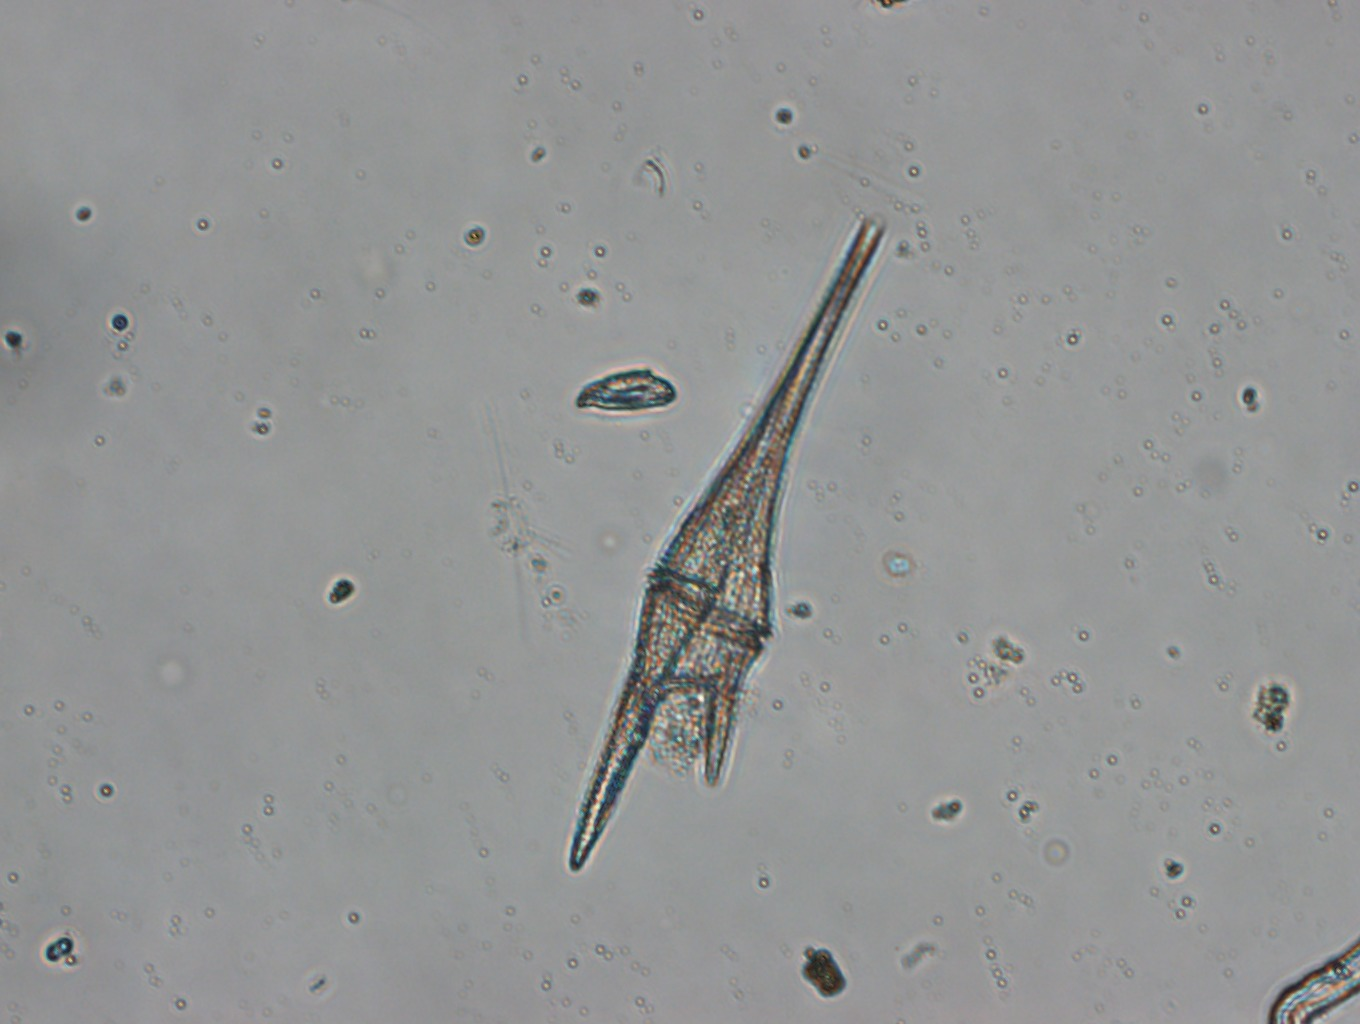ceratium furca: (566, 211, 888, 873)
